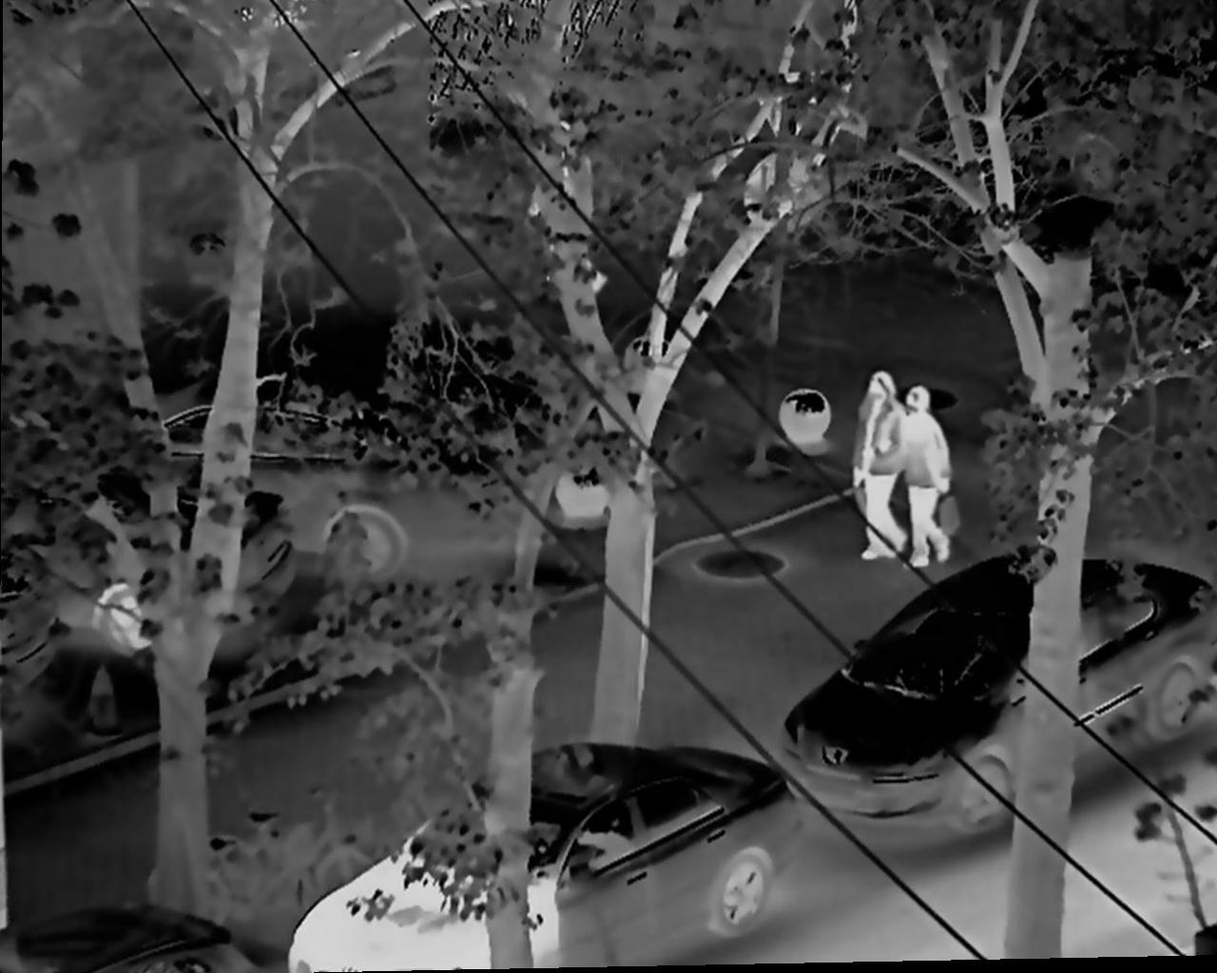person: (847, 371, 907, 561), (898, 382, 953, 570)
